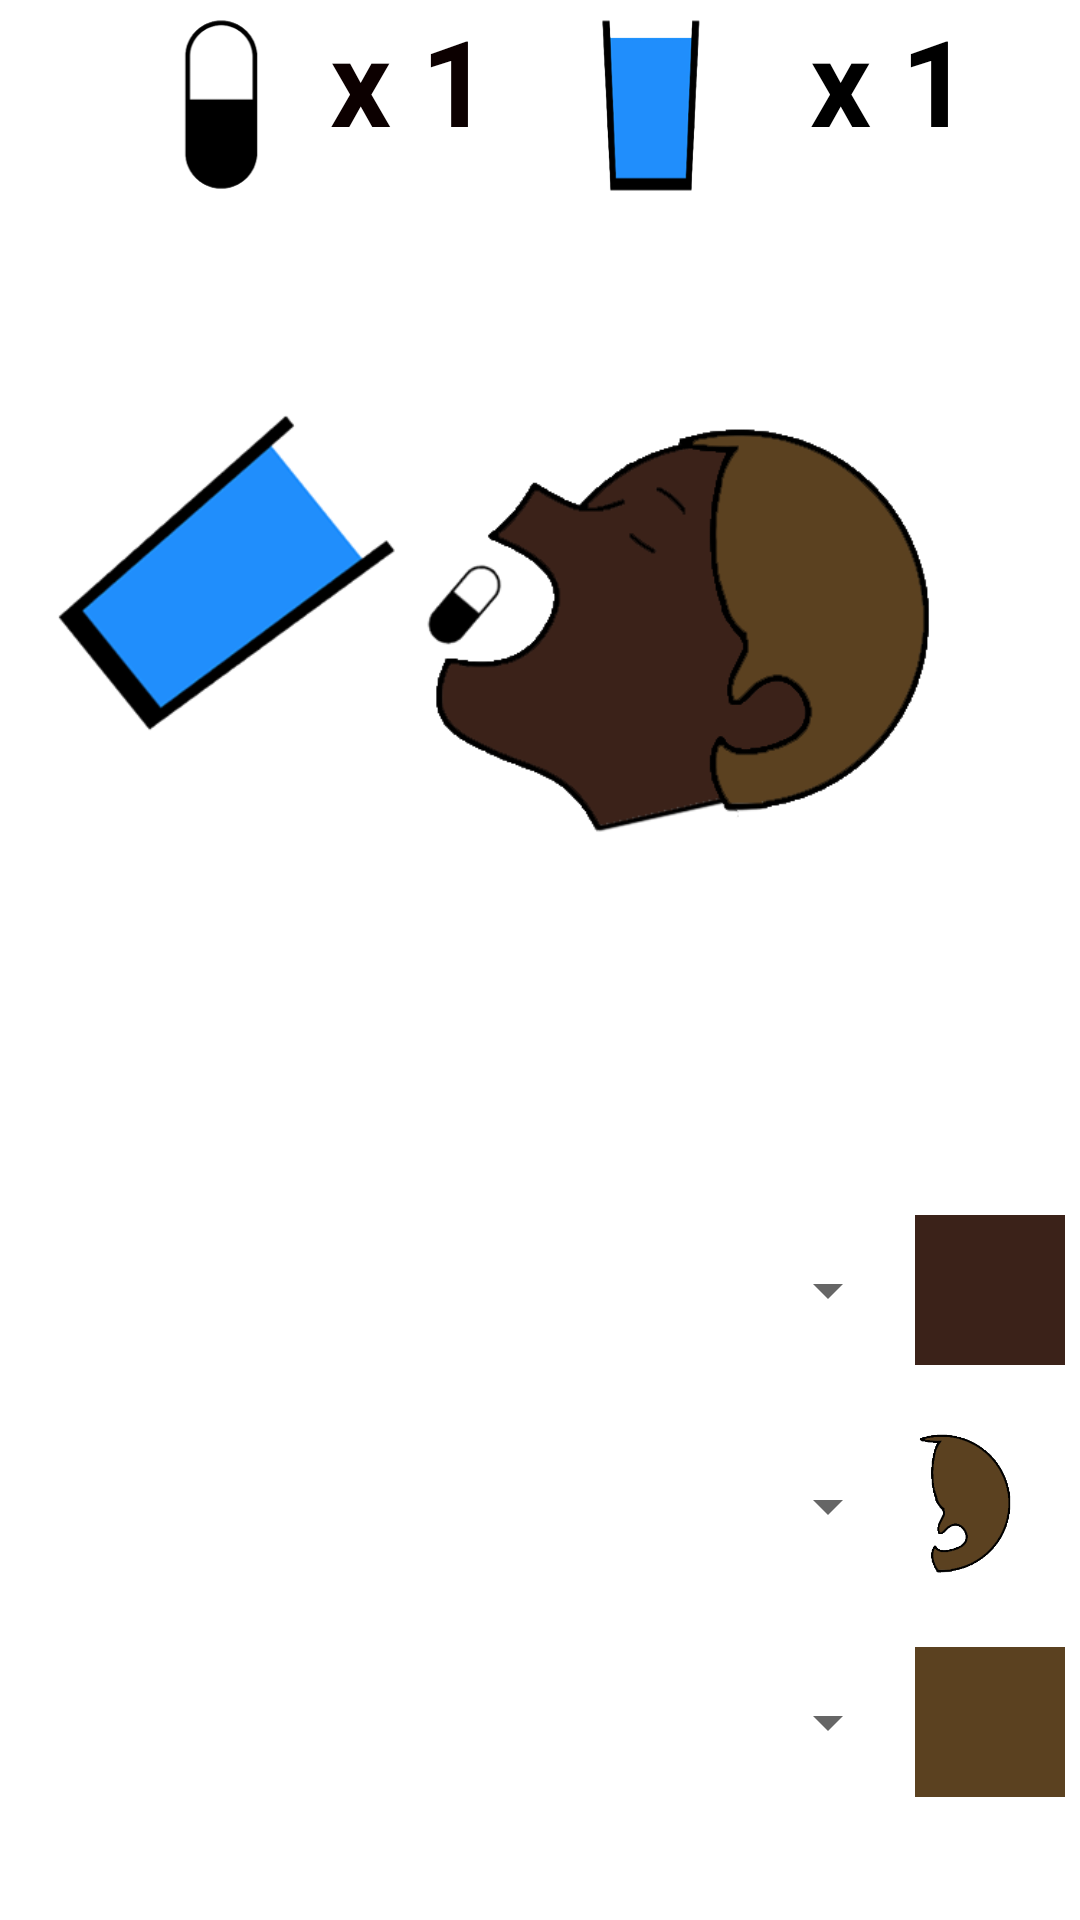

Where to tap for icons on this 1080px x 1920px app screen, as (x,y):
hairstyle: (965,1503)
pill: (221,104)
water: (651,105)
